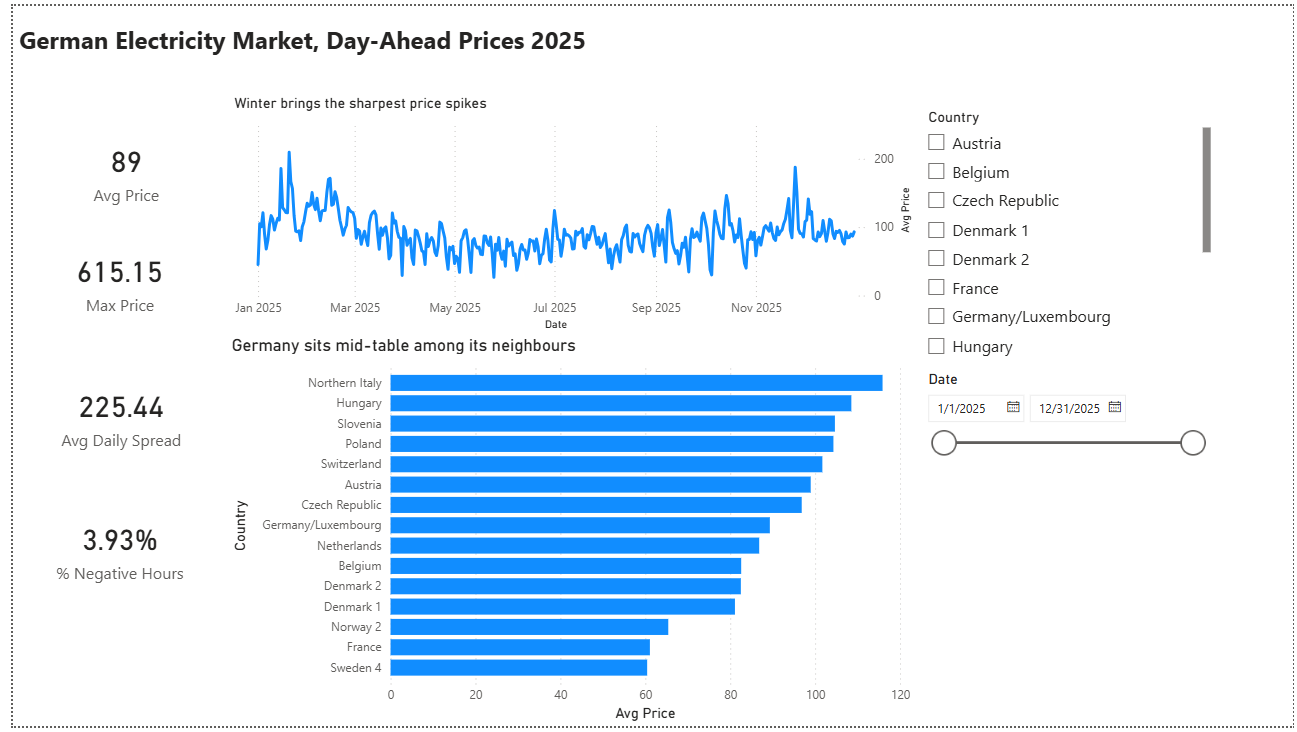

This screenshot's page, from the dashboard's own definition file:
{"tool":"powerbi","page":{"name":"Market Overview","canvas":[1280,720],"ordinal":0},"visuals":[{"type":"card","fields":{"Values":["Prices.Avg Price"]},"box":[11.5,89.1,204.5,150.9],"z":0},{"type":"card","fields":{"Values":["Prices.Max Price"]},"box":[0,208.6,214.3,131.4],"z":1000},{"type":"card","fields":{"Values":["Prices.Avg Daily Spread"]},"box":[1.4,340,214.3,138.6],"z":2000},{"type":"card","fields":{"Values":["Prices.% Negative Hours"]},"box":[0,478.6,214.3,127.1],"z":3000},{"type":"lineChart","title":"Winter brings the sharpest price spikes","fields":{"Category":["Date.Date"],"Y2":["Prices.Avg Price"]},"box":[215.7,88.6,687.1,240],"z":4000},{"type":"clusteredBarChart","title":"Germany sits mid-table among its neighbours","fields":{"Category":["Prices.Country"],"Y":["Prices.Avg Price"]},"box":[214.3,328.6,688.6,391.4],"z":5000},{"type":"slicer","fields":{"Values":["Prices.Country"]},"box":[902.9,97.1,300,262.9],"z":6000},{"type":"slicer","fields":{"Values":["Date.Date"]},"box":[902.9,360,298.6,305.7],"z":7000},{"type":"textbox","box":[1.4,12.9,638.6,57.1],"z":8000}]}

Visuals, with their boxes in screenshot pixels (x1, y1, x2, y2), scaled from the page's 1280x720 canvas onto the 1297x732 screenshot:
card - Prices.Avg Price: bbox=[12, 91, 219, 244]
card - Prices.Max Price: bbox=[0, 212, 217, 346]
card - Prices.Avg Daily Spread: bbox=[1, 346, 219, 487]
card - Prices.% Negative Hours: bbox=[0, 487, 217, 616]
"Winter brings the sharpest price spikes" lineChart: bbox=[219, 90, 915, 334]
"Germany sits mid-table among its neighbours" clusteredBarChart: bbox=[217, 334, 915, 731]
slicer - Prices.Country: bbox=[915, 99, 1219, 366]
slicer - Date.Date: bbox=[915, 366, 1217, 677]
textbox: bbox=[1, 13, 648, 71]
